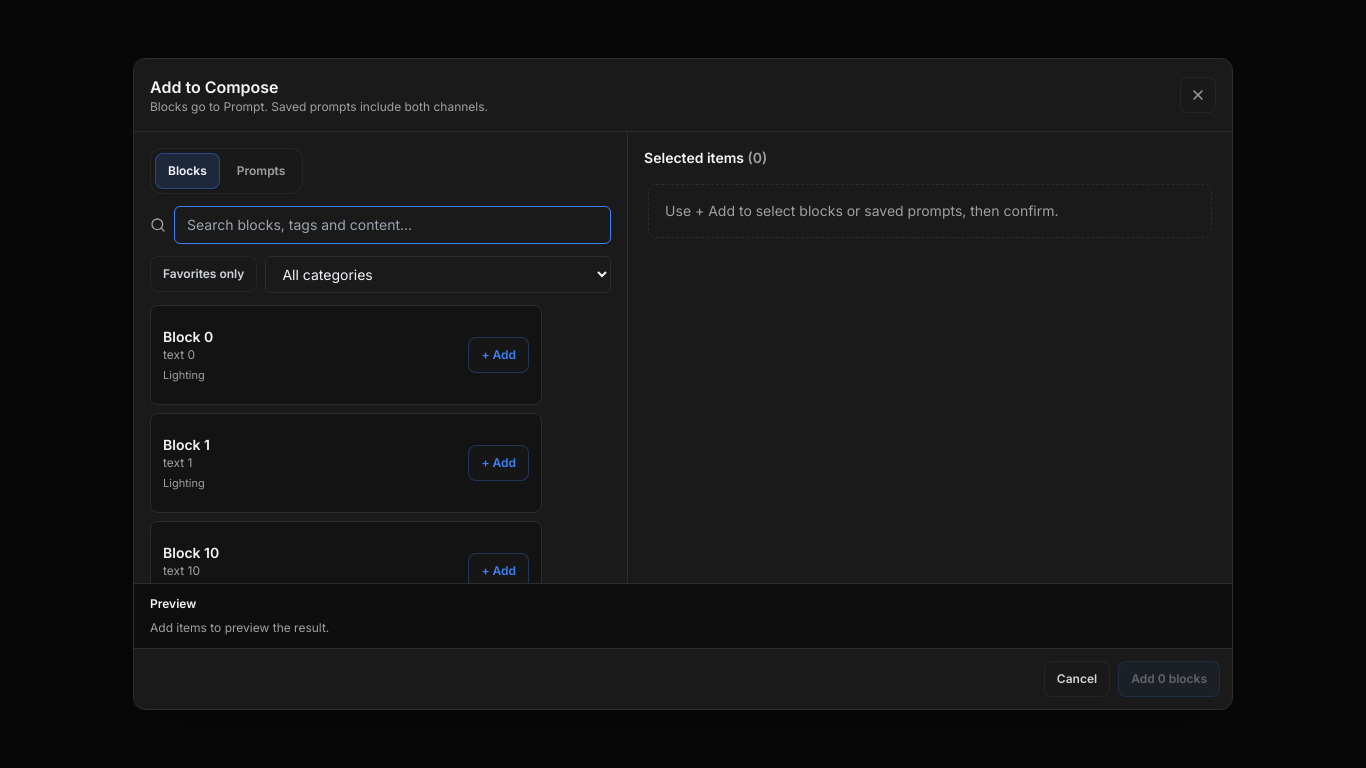
it: filters a large virtualized catalog by search, category and favorite
This screenshot has width=1366, height=768.
Click the button "Favorites only" at (204, 274), box [150,256,257,292]
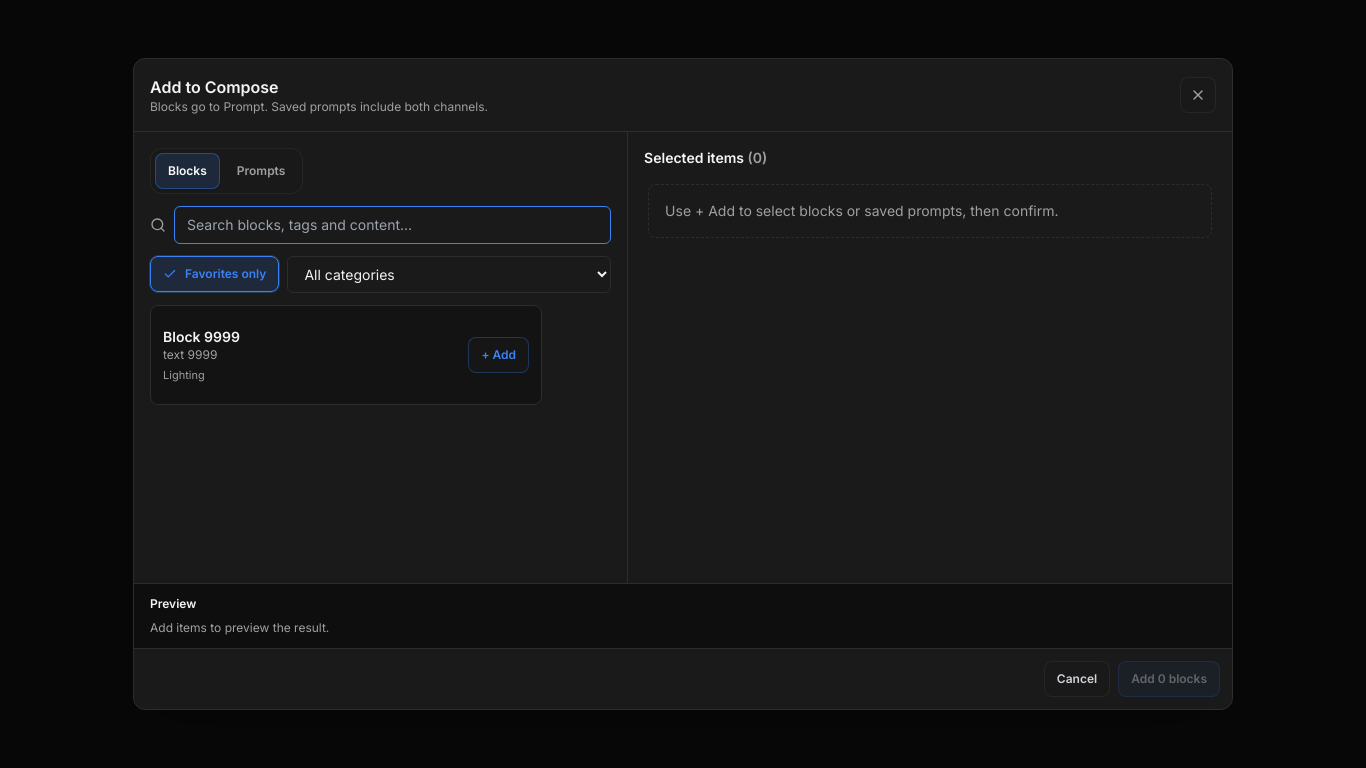
Expected: the number of buttons named "Add block Block" is 1, [468,337,529,373]
Now the button "Favorites only" is pressed, box [150,256,279,292]
Now the button "Favorites only" has class "!bg-accent/15", box [150,256,279,292]
Select "Lighting" in the dropdown named "Block category" at (449, 274), box [287,256,611,293]
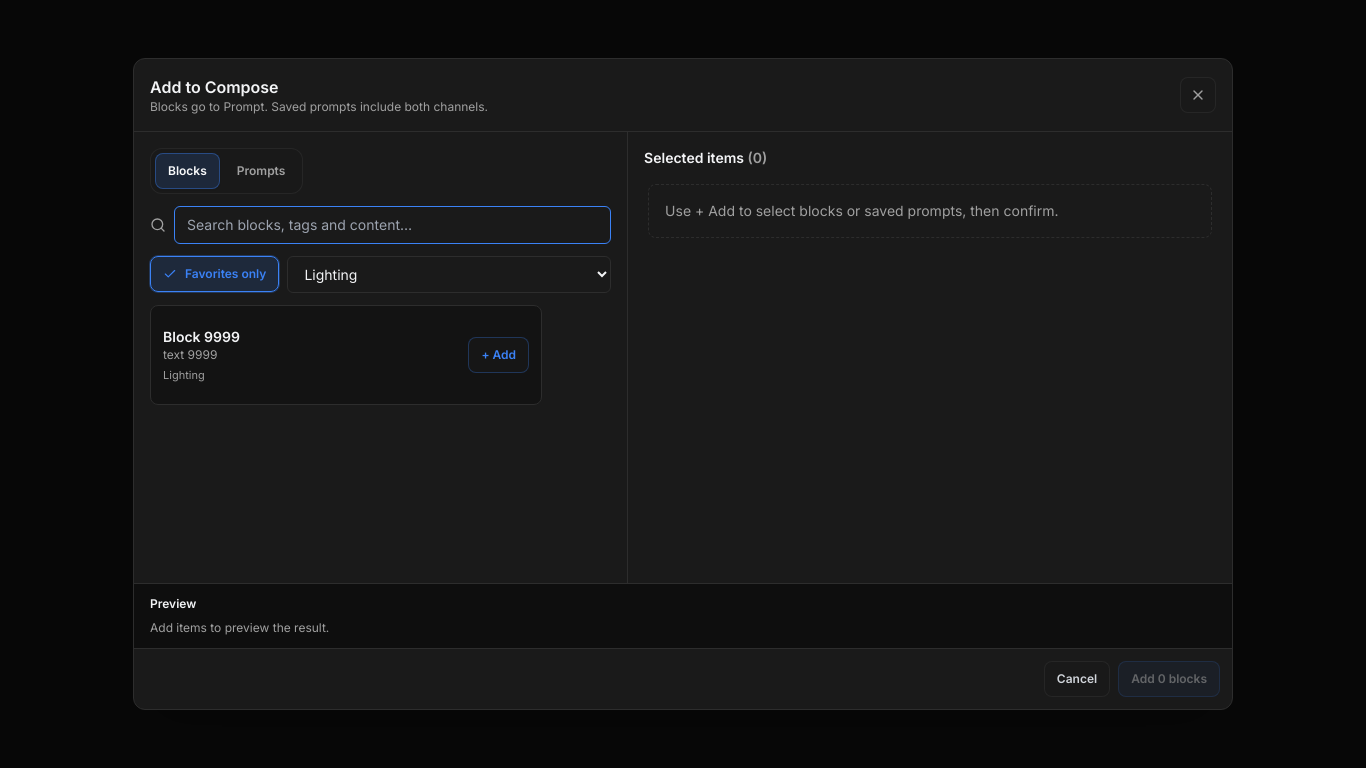
Type "9999" into the search field at (393, 225), box [174,206,611,244]
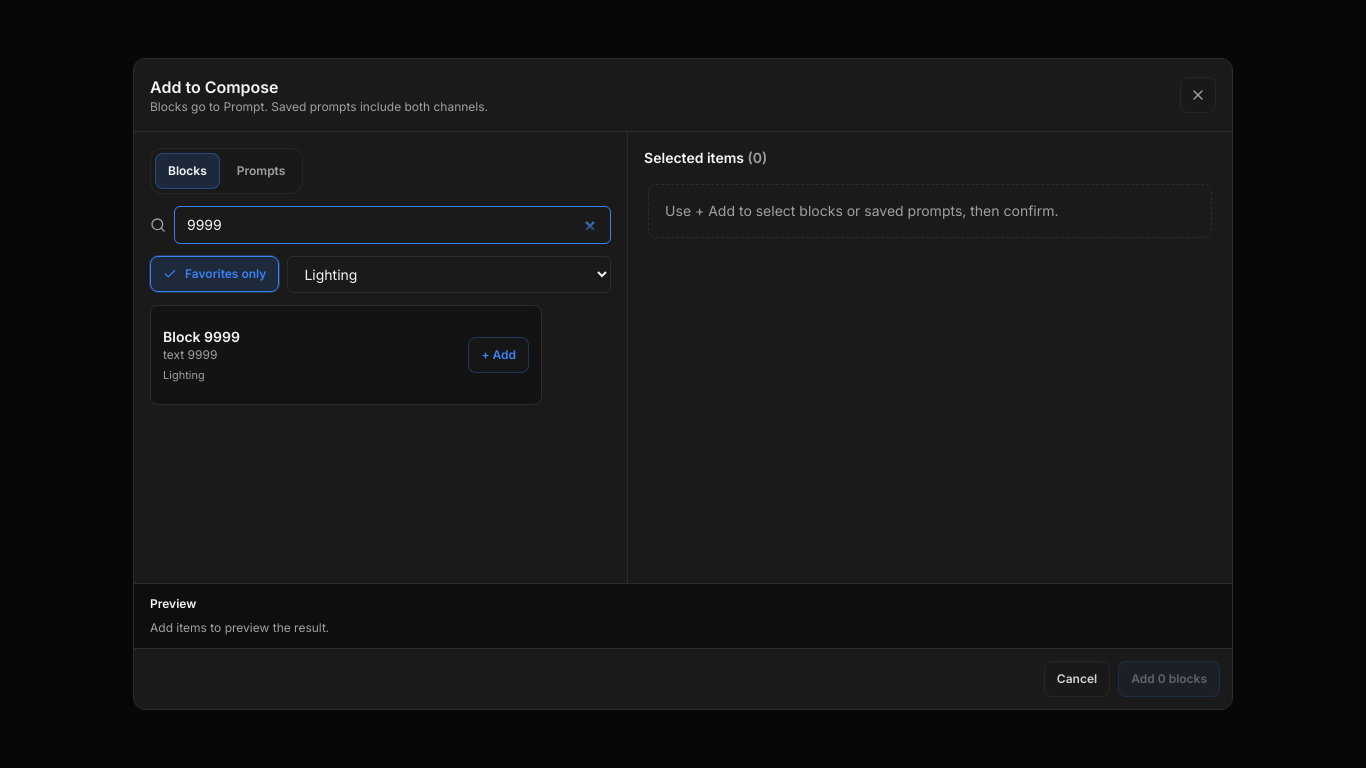
Expected: the button with aria-label "Add block Block 9999" is shown, [468,337,529,373]
Replace the text in the search field with "missing" at (393, 225), box [174,206,611,244]
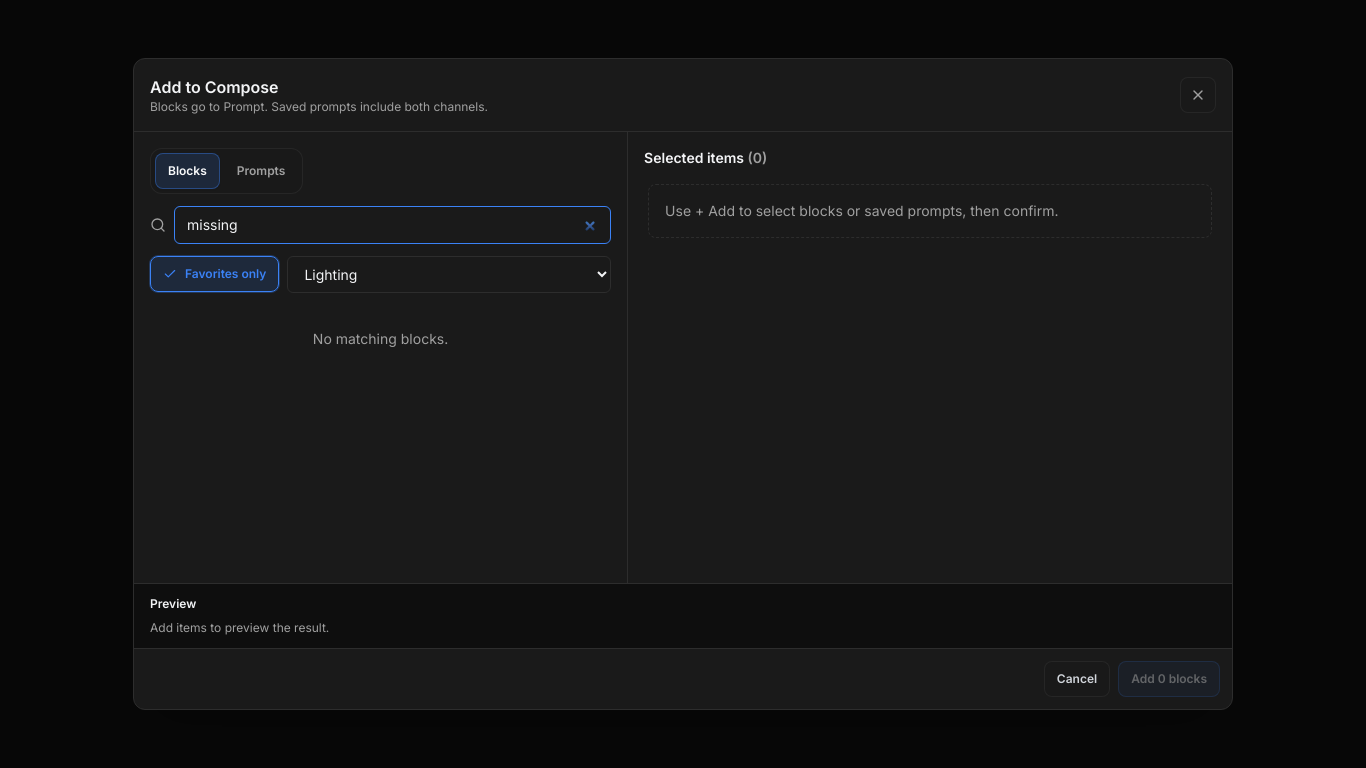
Now the text "No matching blocks." is shown, box [313,330,448,347]
